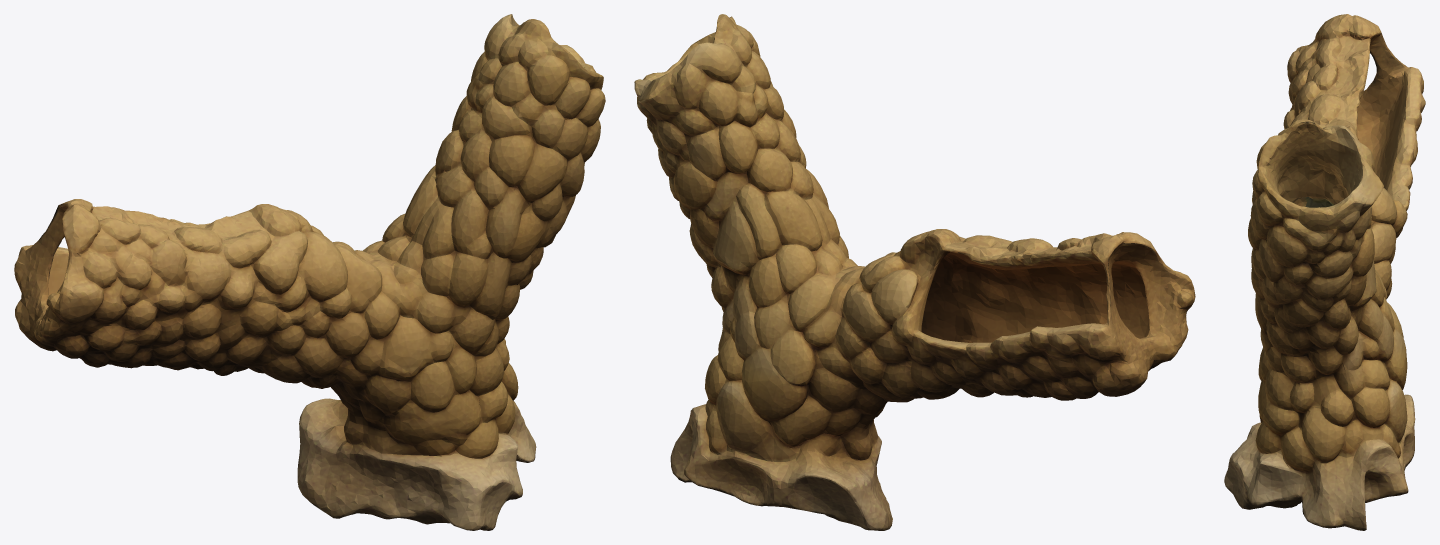
3 views of the same model, side by side, from view 1: azimuth 30°, elevation 25°; view 2: azimuth 150°, elevation 25°; view 3: azimuth 270°, elevation 25° (orthographic). The views are drawn at different scales.
Visible parts, largest first — view 1: world; view 2: world; view 3: world.
Boxes of the visible parts, left/top/right/bottom form: world: left=14, top=14, right=605, bottom=530; world: left=634, top=14, right=1195, bottom=530; world: left=1224, top=14, right=1425, bottom=530.
Bounding box in the file's own units: 0.9994 × 0.8118 × 0.3501.
1 material, 1 textured.
